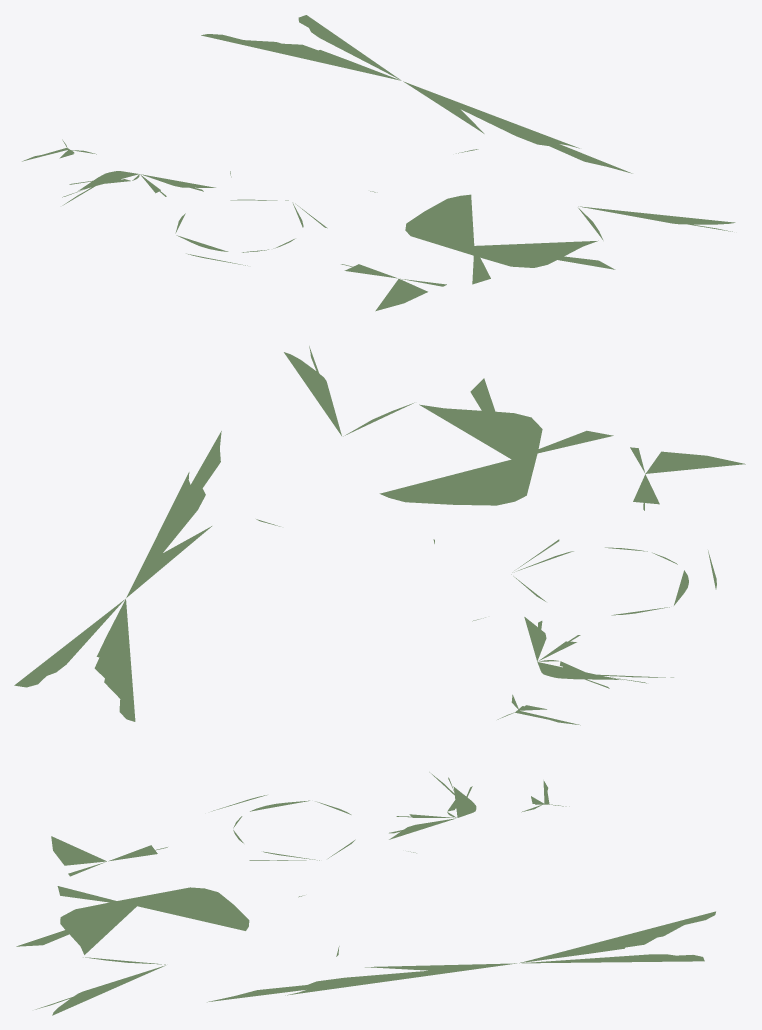
The model's file is c_1645_17815_parks.glb.
3 renders of one model, top to bottom at view 1: azimuth 30°, elevation 25°; view 2: azimuth 150°, elevation 25°; view 3: azimuth 270°, elevation 25°, orthographic. The views are drawn at different scales.
Visible parts, largest first — view 1: geometry_0; view 2: geometry_0; view 3: geometry_0.
Part boxes in pixels (x1,y1,x2,y2): geometry_0: (22, 15, 735, 311); geometry_0: (14, 346, 745, 725); geometry_0: (16, 772, 715, 1015).
Size of the model in its own units: 297 by 0 by 375.
